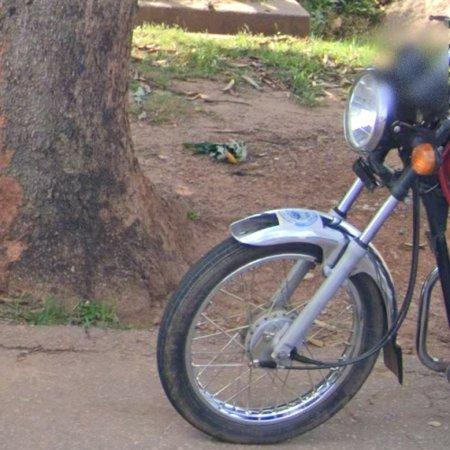motorcycles: (157, 22, 450, 445)
